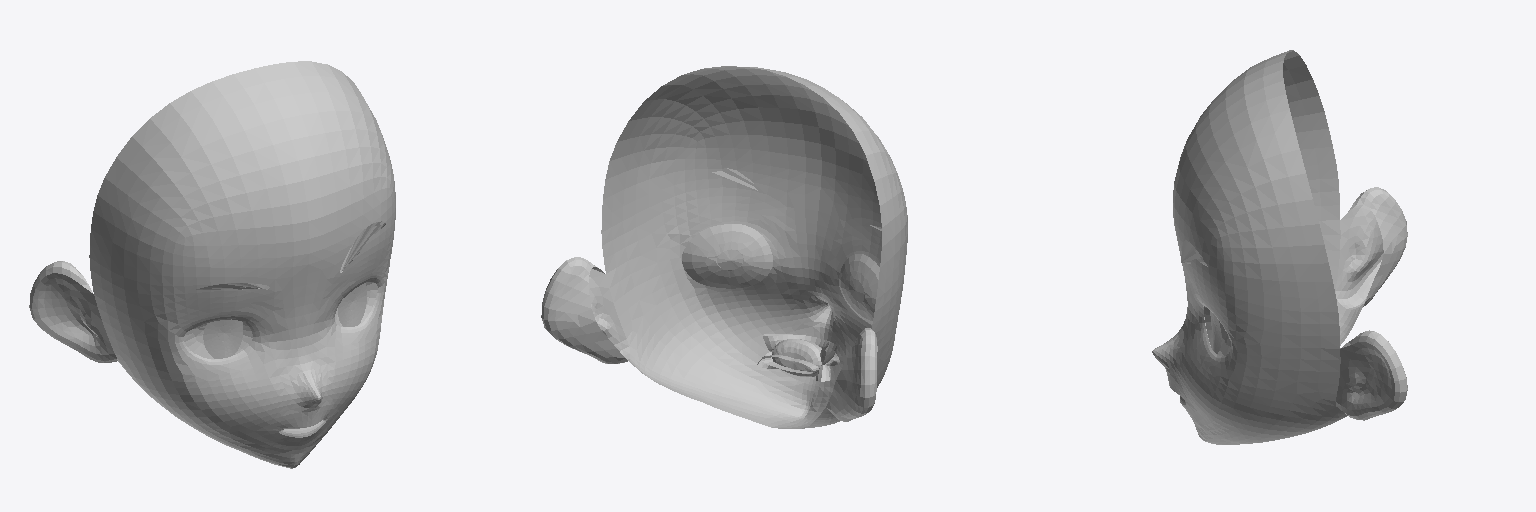
File: browOuterUpLeft.obj
The picture shows the model from 3 angles: view 1: azimuth 30°, elevation 25°; view 2: azimuth 150°, elevation 25°; view 3: azimuth 270°, elevation 25°; orthographic projection.
Parts seen in each view (by area): view 1: Face; view 2: Face; view 3: Face.
Part boxes in pixels (x1,y1,x2,y2): Face: (29,61,395,468); Face: (541,66,907,428); Face: (1152,50,1407,444).
Size of the model in its own units: 0.2176 by 0.2333 by 0.1449.